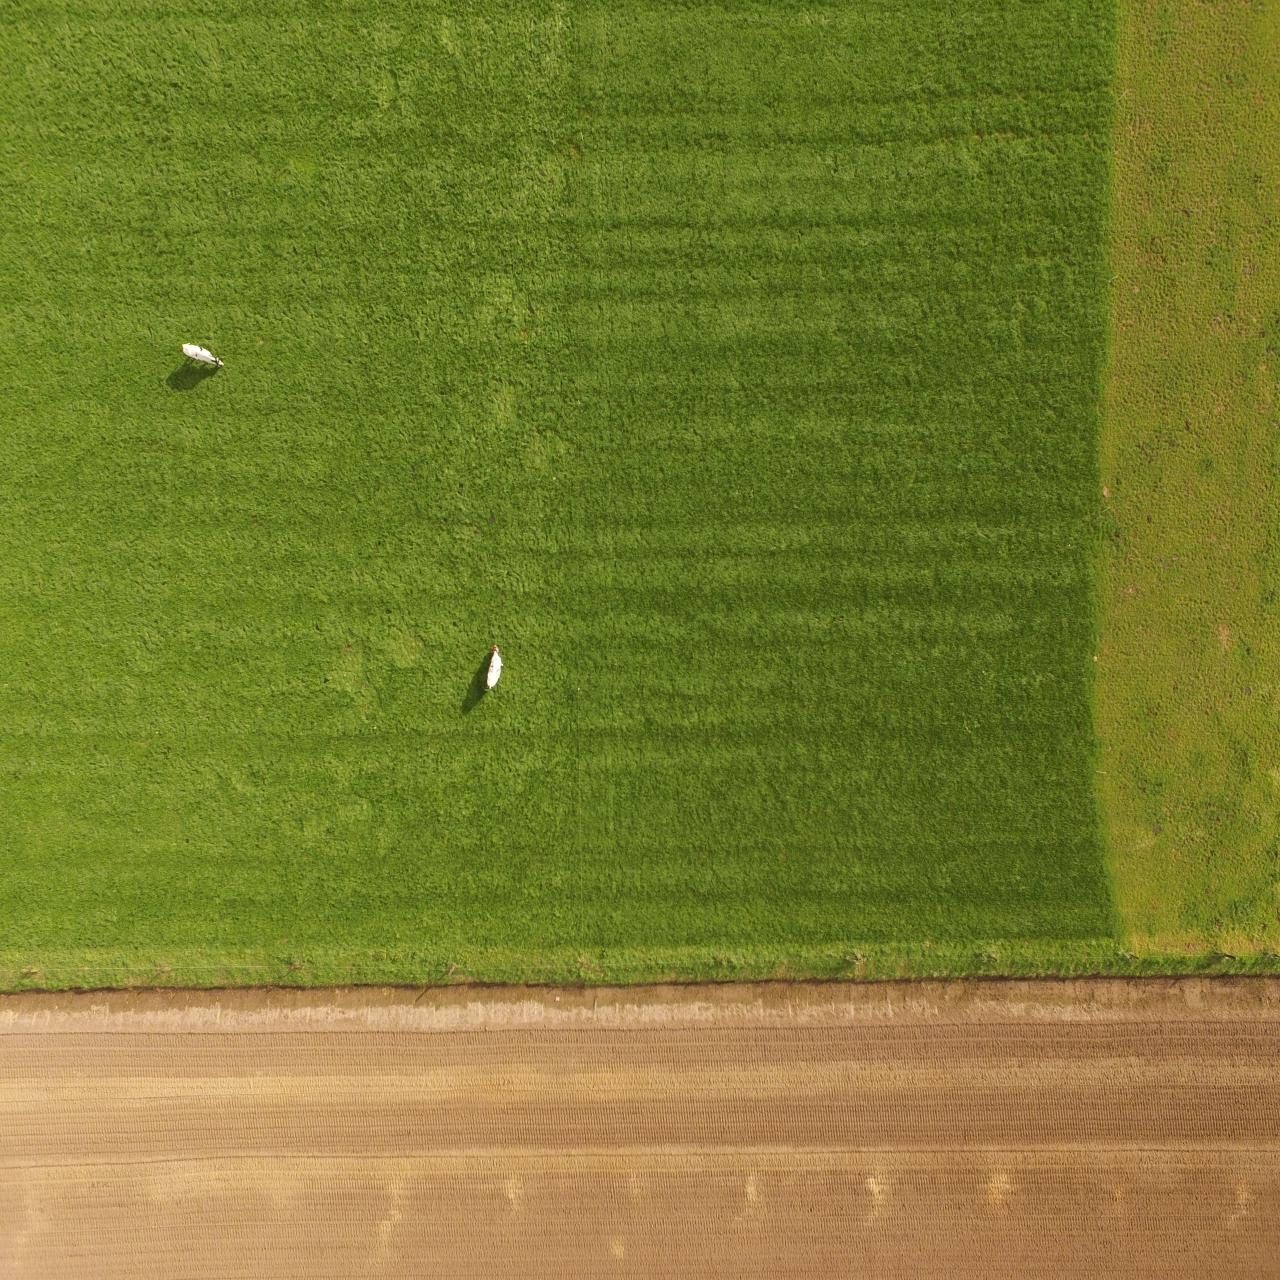cow: (178, 336, 225, 375), (482, 640, 505, 694)
